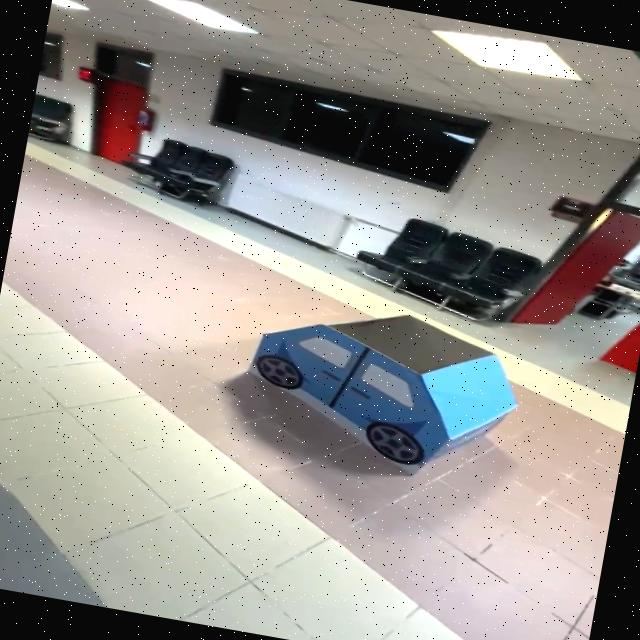blue_car: (208, 280, 549, 497)
